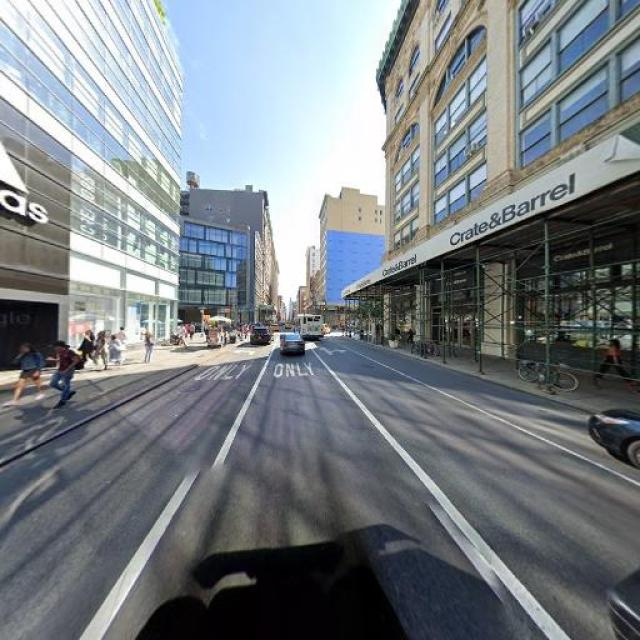Building: (387, 1, 640, 380), (1, 1, 177, 372)
